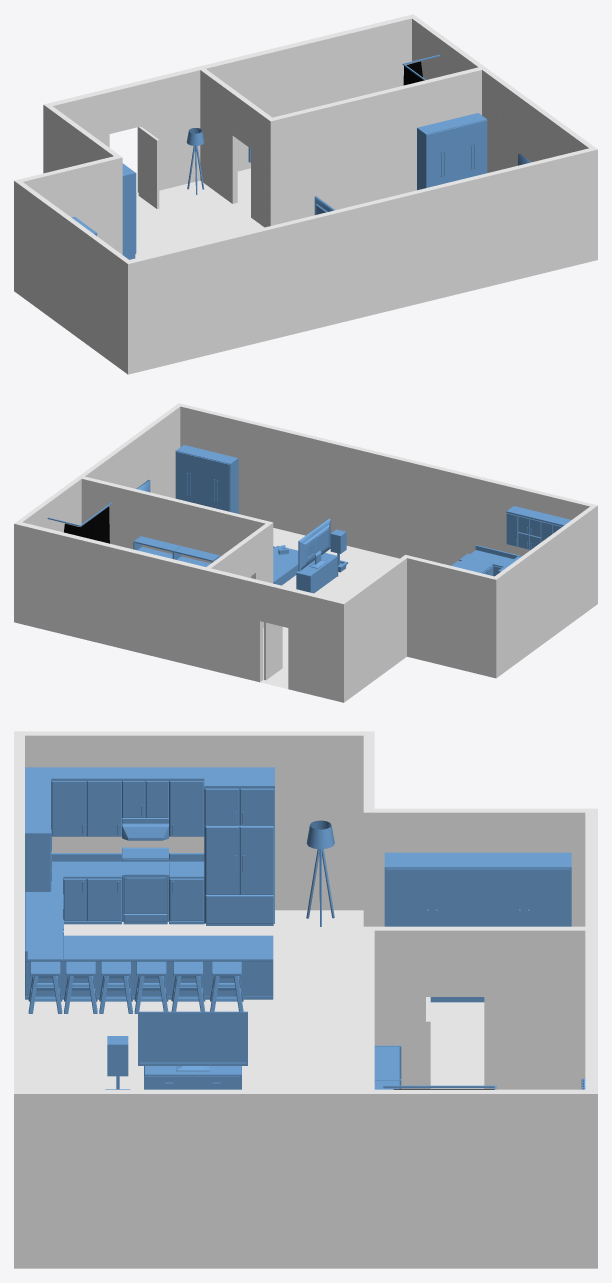
The model's file is room4.glb.
3 views of the same model, one above another, from view 1: azimuth 30°, elevation 25°; view 2: azimuth 150°, elevation 25°; view 3: azimuth 270°, elevation 25° (orthographic). The views are drawn at different scales.
Parts seen in each view (by area): view 1: ROOM FINISHED 4; view 2: ROOM FINISHED 4; view 3: ROOM FINISHED 4.
Boxes of the visible parts, x1=… form: ROOM FINISHED 4: x1=14, y1=14, x2=597, y2=374; ROOM FINISHED 4: x1=14, y1=403, x2=597, y2=702; ROOM FINISHED 4: x1=14, y1=731, x2=597, y2=1268.
Bounding box in the file's own units: 11.11 × 2.72 × 7.57.
